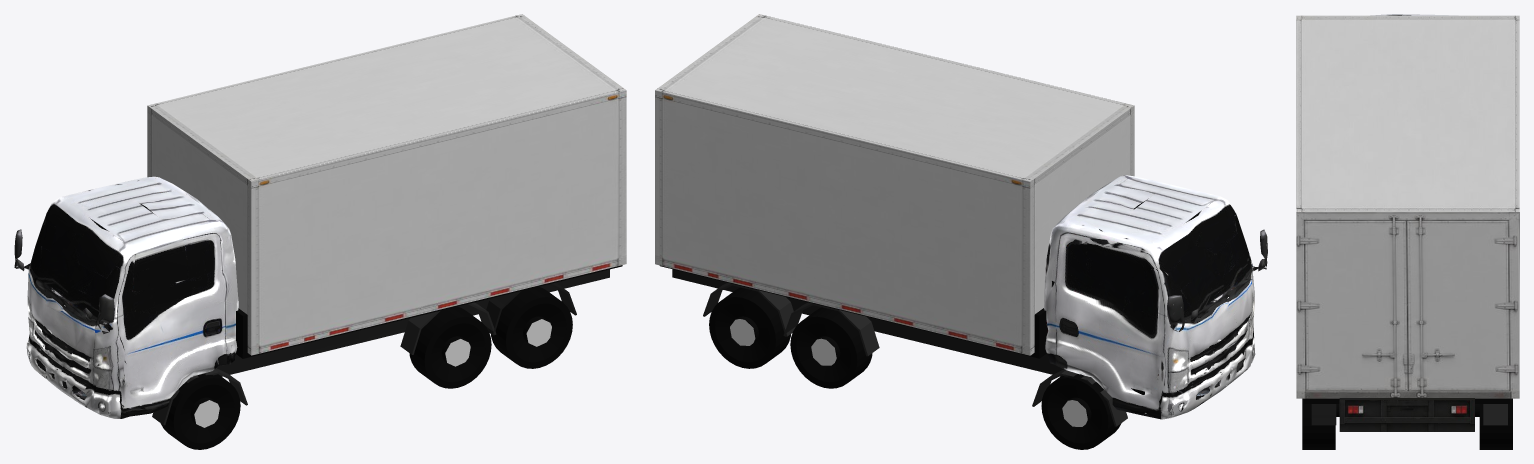
File: Truck3_optimized (1)_optimized.glb
The picture shows the model from 3 angles, left to right: view 1: azimuth 30°, elevation 25°; view 2: azimuth 150°, elevation 25°; view 3: azimuth 270°, elevation 25°; orthographic projection. The views are drawn at different scales.
Visible parts, largest first — view 1: Cube.006, Mesh_0.010, BackTire, BackTire.001, FrontTire, Supporter, Mudguard.001, Mudguard, LowerPart, Mudguard.002; view 2: Cube.006, Mesh_0.010, BackTire, BackTire.001, FrontTire, Supporter, Mudguard2.001, Mudguard2, Mudguard2.002; view 3: Cube.006, Supporter, BackTire, Mudguard, Mudguard2, LowerPart.
Boxes of the visible parts, left/top/right/bottom form: Cube.006: left=147, top=14, right=626, bottom=355; Mesh_0.010: left=14, top=176, right=238, bottom=418; BackTire: left=491, top=287, right=572, bottom=368; BackTire.001: left=409, top=306, right=491, bottom=388; FrontTire: left=160, top=373, right=240, bottom=449; Supporter: left=216, top=269, right=609, bottom=376; Mudguard.001: left=400, top=302, right=496, bottom=354; Mudguard: left=486, top=283, right=576, bottom=335; LowerPart: left=236, top=265, right=622, bottom=358; Mudguard.002: left=152, top=368, right=247, bottom=425; Cube.006: left=655, top=14, right=1134, bottom=355; Mesh_0.010: left=1044, top=175, right=1267, bottom=419; BackTire: left=709, top=287, right=790, bottom=368; BackTire.001: left=790, top=307, right=872, bottom=388; FrontTire: left=1041, top=374, right=1121, bottom=449; Supporter: left=672, top=269, right=1063, bottom=376; Mudguard2.001: left=783, top=302, right=879, bottom=356; Mudguard2: left=703, top=282, right=795, bottom=336; Mudguard2.002: left=1032, top=369, right=1127, bottom=426; Cube.006: left=1296, top=15, right=1519, bottom=398; Supporter: left=1339, top=398, right=1474, bottom=431; BackTire: left=1302, top=398, right=1512, bottom=449; Mudguard: left=1311, top=404, right=1336, bottom=425; Mudguard2: left=1483, top=404, right=1507, bottom=425; LowerPart: left=1304, top=398, right=1510, bottom=403.
Size of the model in its own units: 2.22 by 1.04 by 0.76.
Materials: 8 (3 with a texture image).
